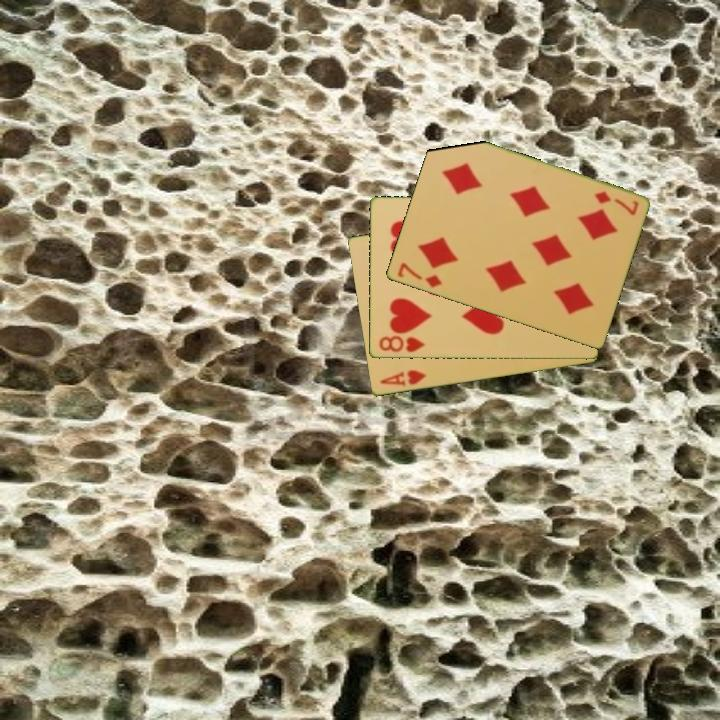7d: (394, 259, 445, 291), (590, 188, 641, 218)
8h: (375, 333, 427, 356)
Ah: (376, 366, 429, 390)
